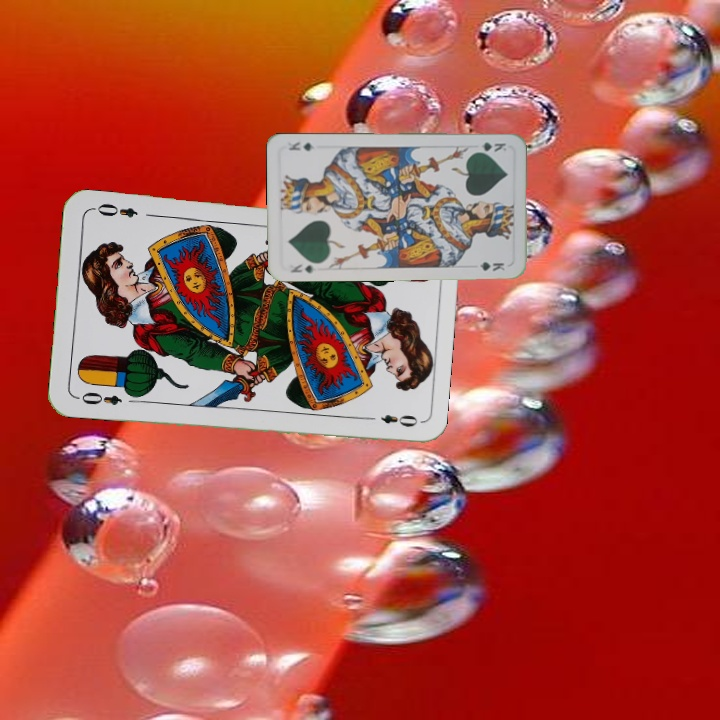EO: (72, 387, 124, 408)
GK: (470, 138, 509, 155), (287, 260, 318, 275)
